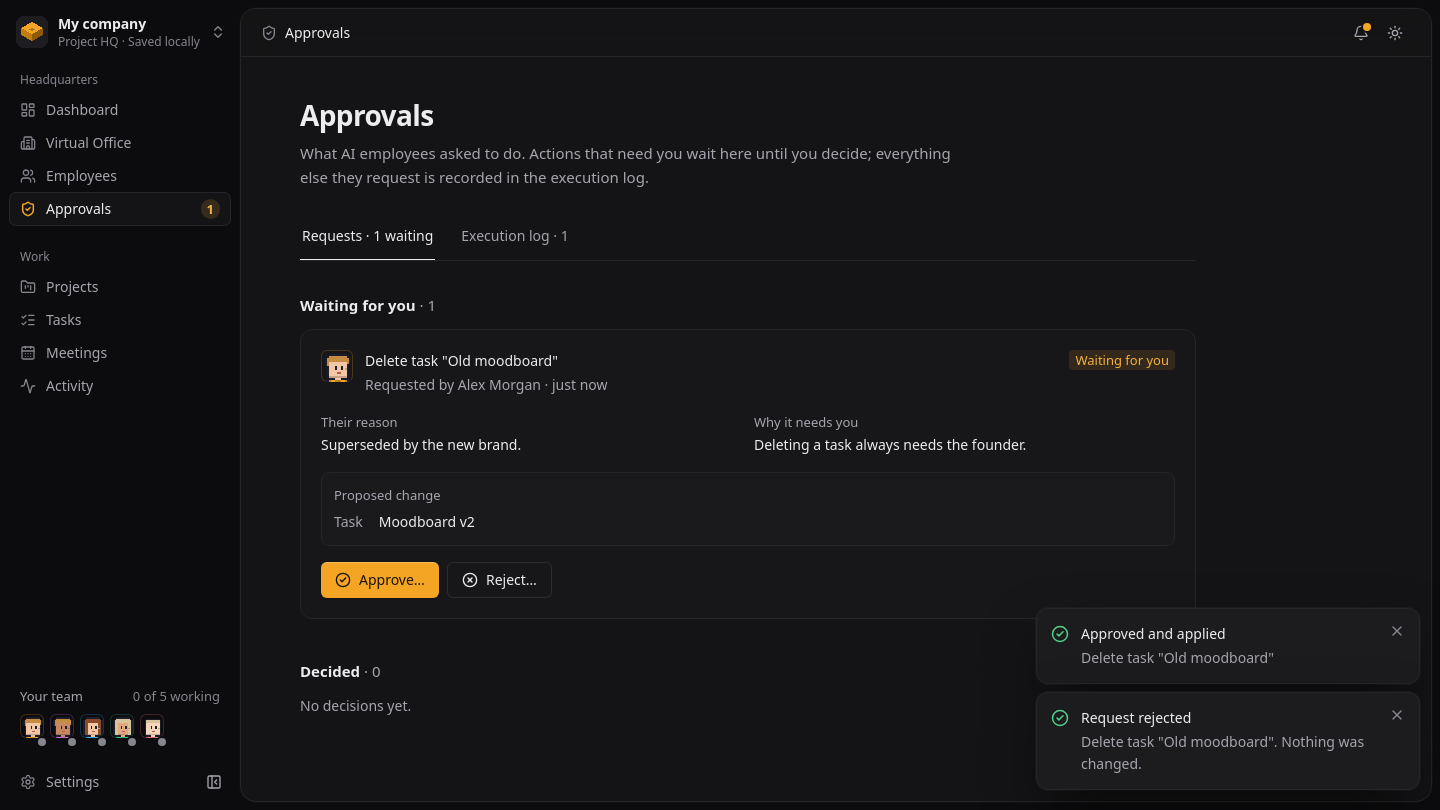
Scenario: approvals page (Phase 1.8) › refuses a stale request with the reason and applies nothing
Click the button "Approve…".
click(380, 580)  # box [321,562,439,598]
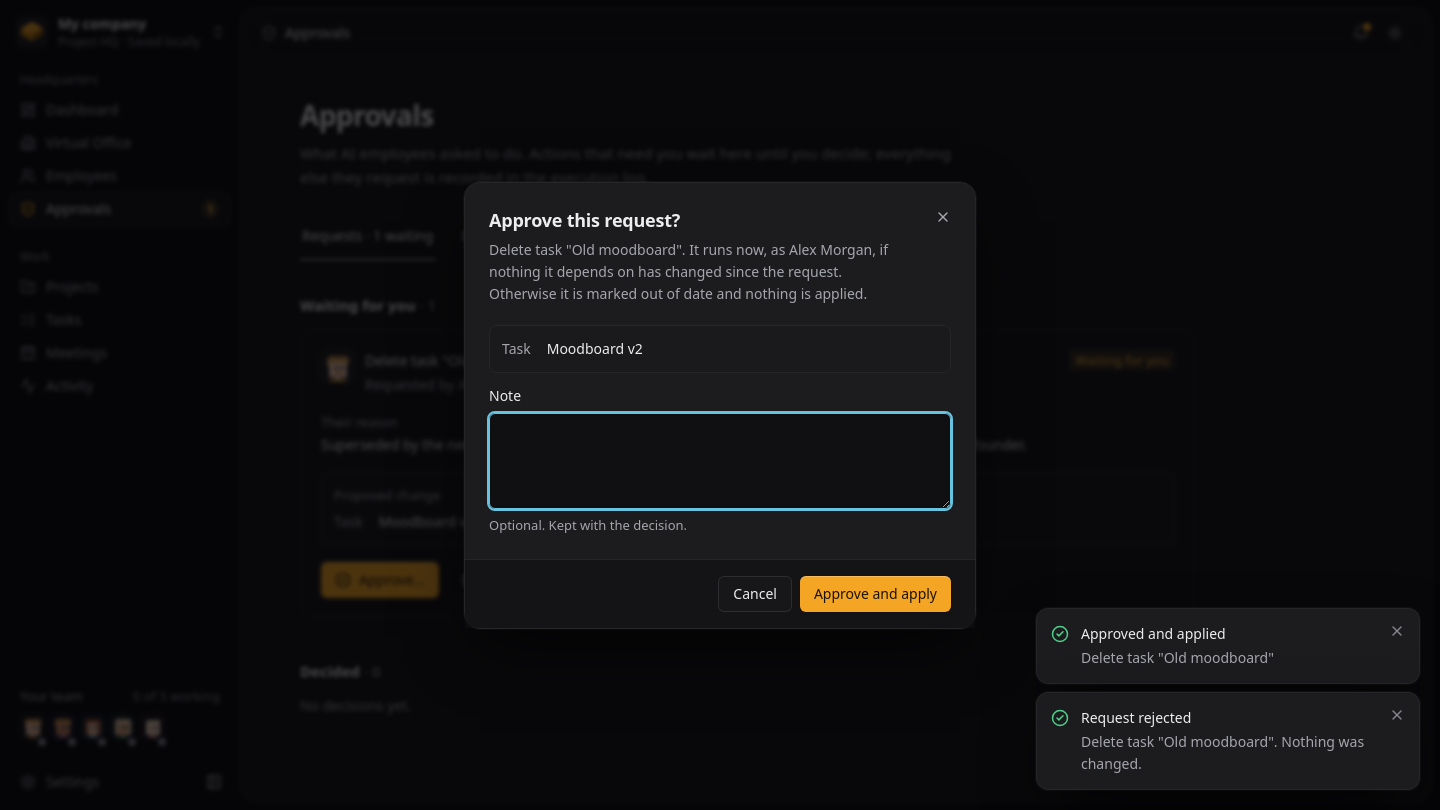
Click the button "Approve and apply".
click(875, 594)  # box [800,576,951,612]
(page scrolled)
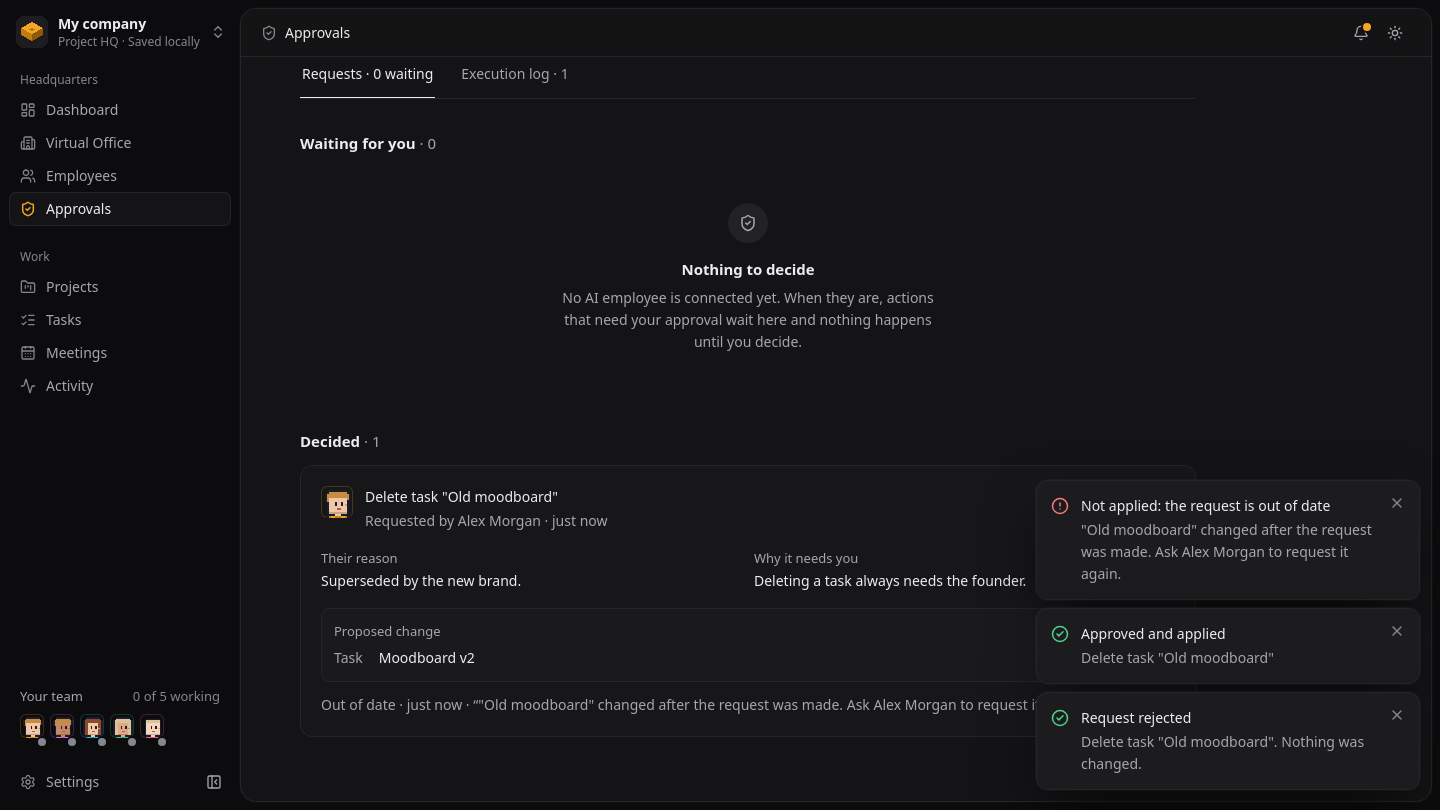
Expected: the text "Moodboard v2" is shown, [379,648,475,667]
Expected: the text "Out of date" is shown, [1094,486,1175,506]
Expected: the text "changed after the request was made" is shown, [478,695,1084,714]
